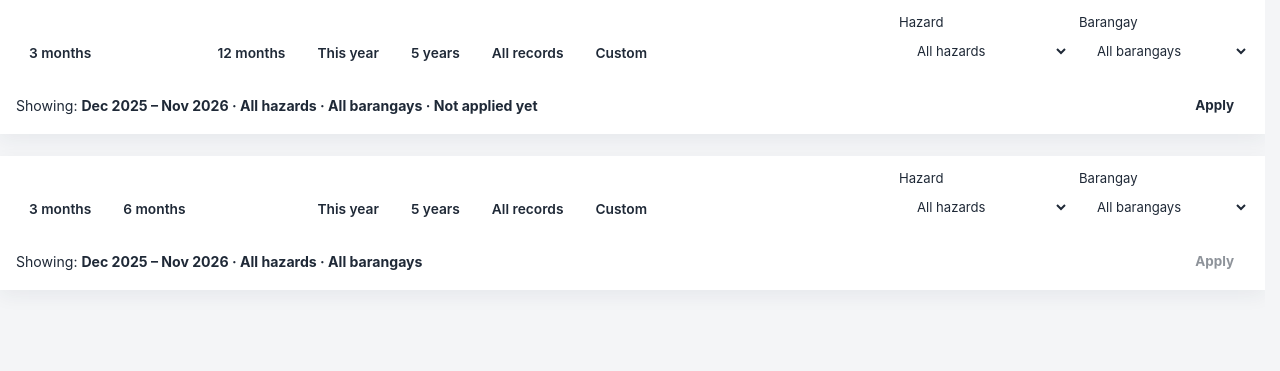
Scenario: apply mode: going to Custom and back leaves nothing to apply
Click the 2nd button "Custom" at (621, 209), box [582, 194, 660, 224]
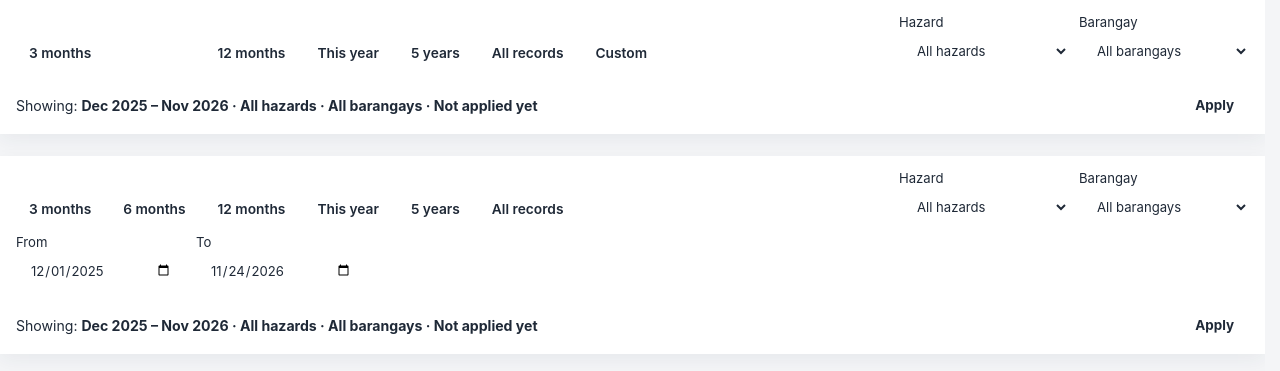
Click the 2nd button "12 months" at (251, 209), box [204, 194, 298, 224]
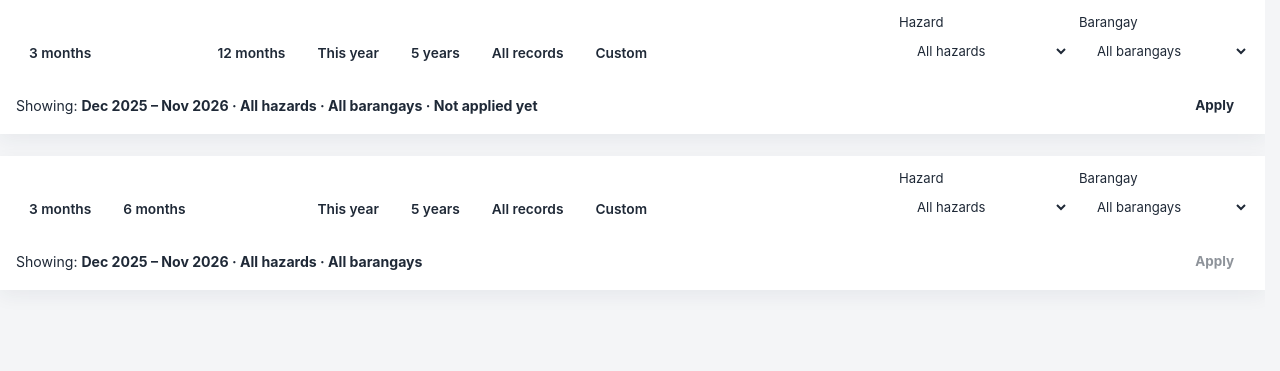
Expected: the text "Not applied yet" is not shown
Now the 2nd button "Apply" is disabled, box [1180, 244, 1249, 278]
